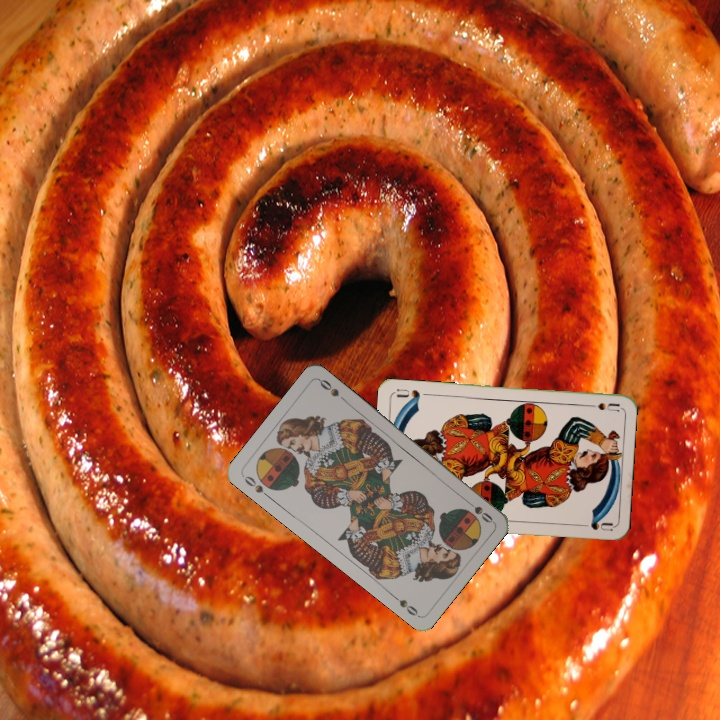SO: (461, 495, 496, 526), (239, 472, 273, 501)
SU: (580, 398, 621, 414)
